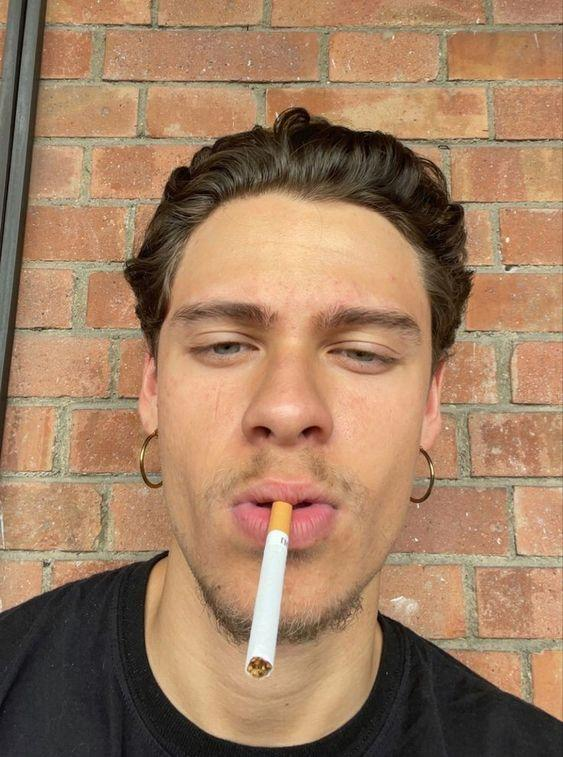cigarette: (245, 500, 292, 680)
